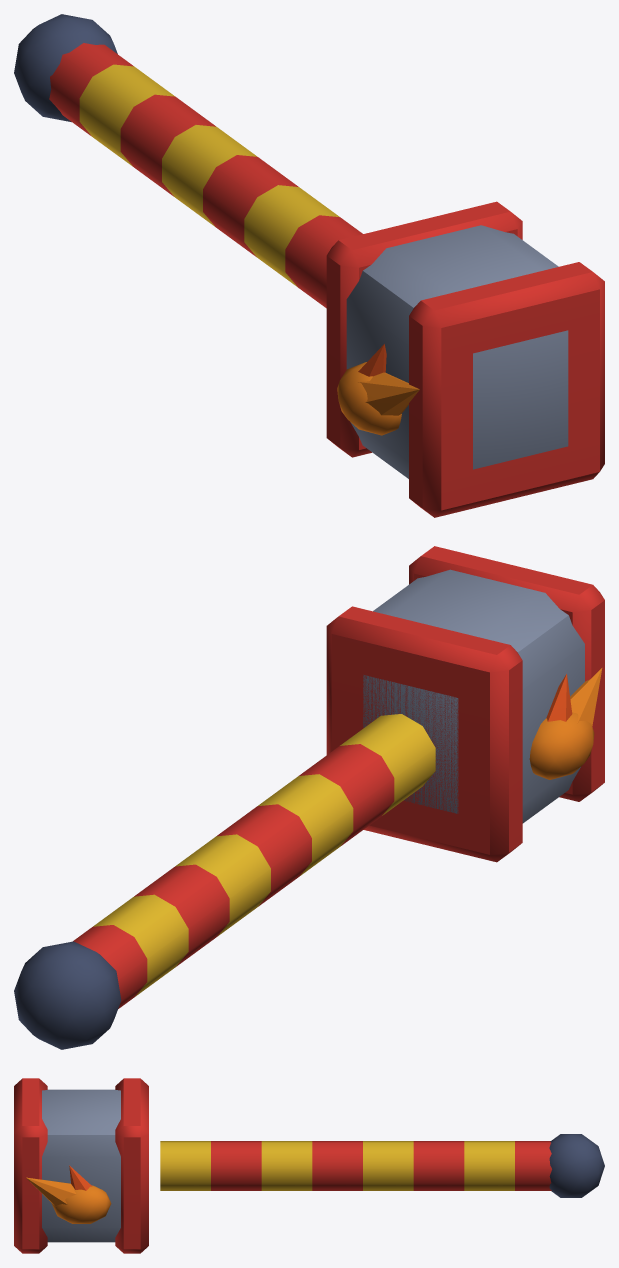
Rendered from w_m_hammer.glb.
3 views of the same model, one above another, from view 1: azimuth 30°, elevation 25°; view 2: azimuth 150°, elevation 25°; view 3: azimuth 270°, elevation 25° (orthographic). The views are drawn at different scales.
Parts seen in each view (by area): view 1: body; view 2: body; view 3: body.
Part boxes in pixels (x1=…): body: x1=14, y1=14, x2=604, y2=517; body: x1=14, y1=546, x2=604, y2=1049; body: x1=14, y1=1078, x2=604, y2=1253.
Size of the model in its own units: 0.2876 by 0.2375 by 0.9975.
